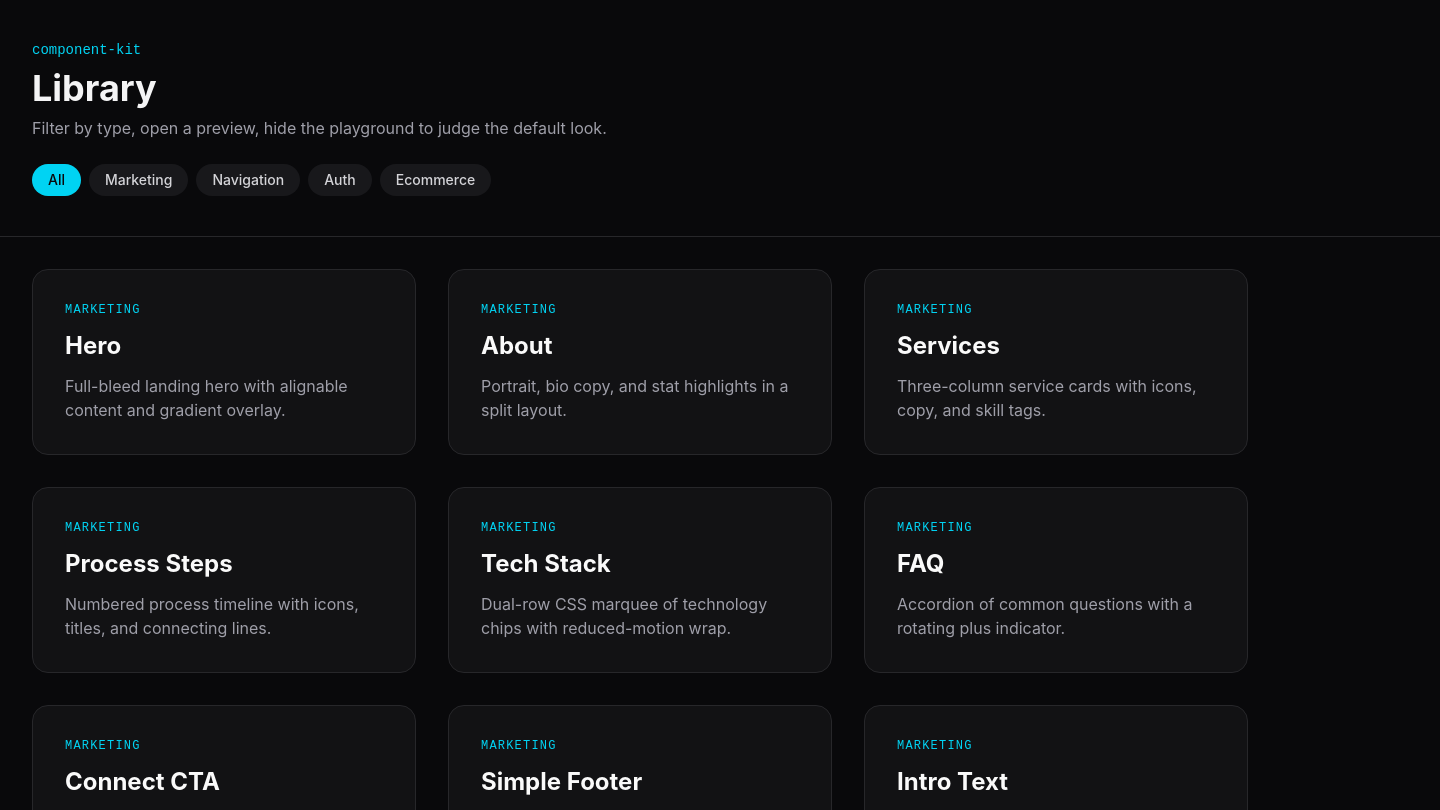
Test: CatalogHome › filters by type chip
Click the button "auth": (340, 180) [308,164,372,196]
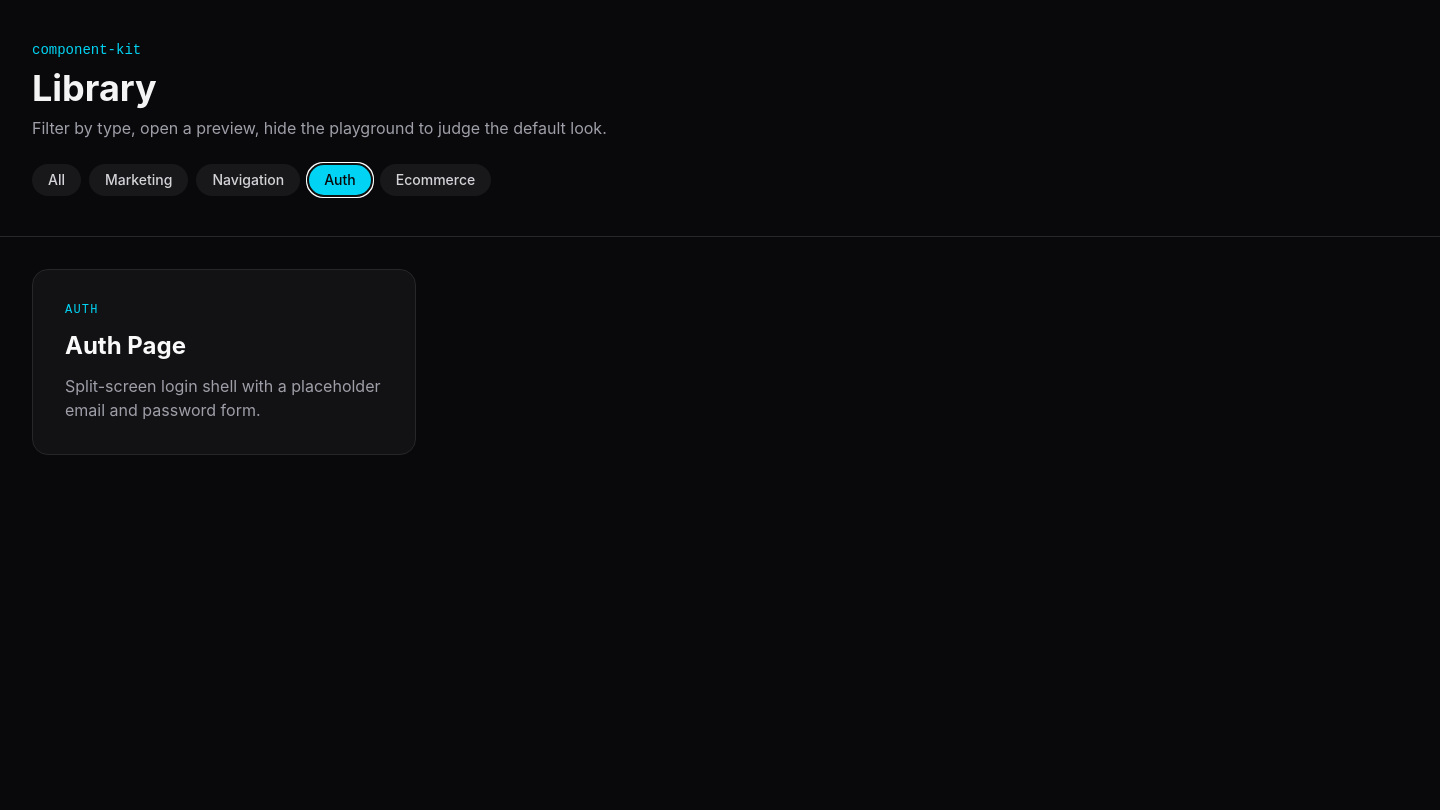
Expected: the link "Hero" is gone
Click the button "all": (56, 180) [32,164,81,196]
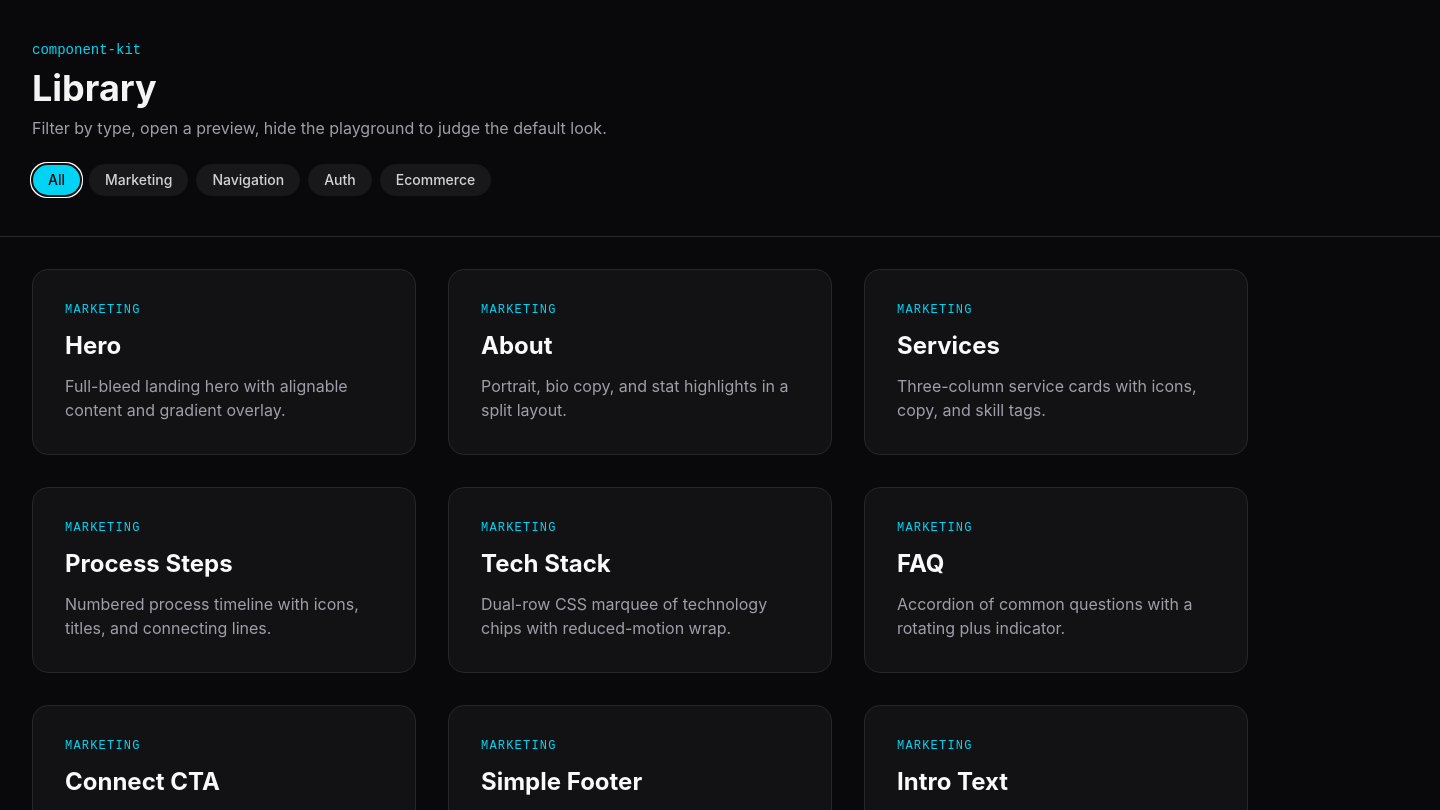
Expected: the heading "Hero" is shown, [65,331,121,360]
